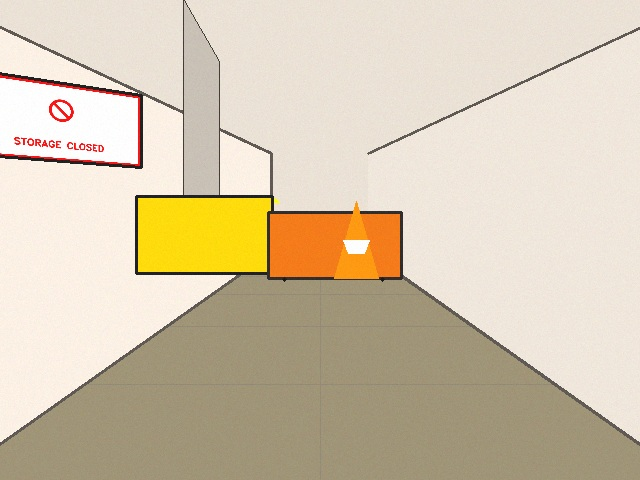cart: (268, 212, 401, 278)
directional_sign: (0, 68, 141, 167)
forklift: (136, 196, 279, 273)
obstacle: (334, 201, 378, 278)
